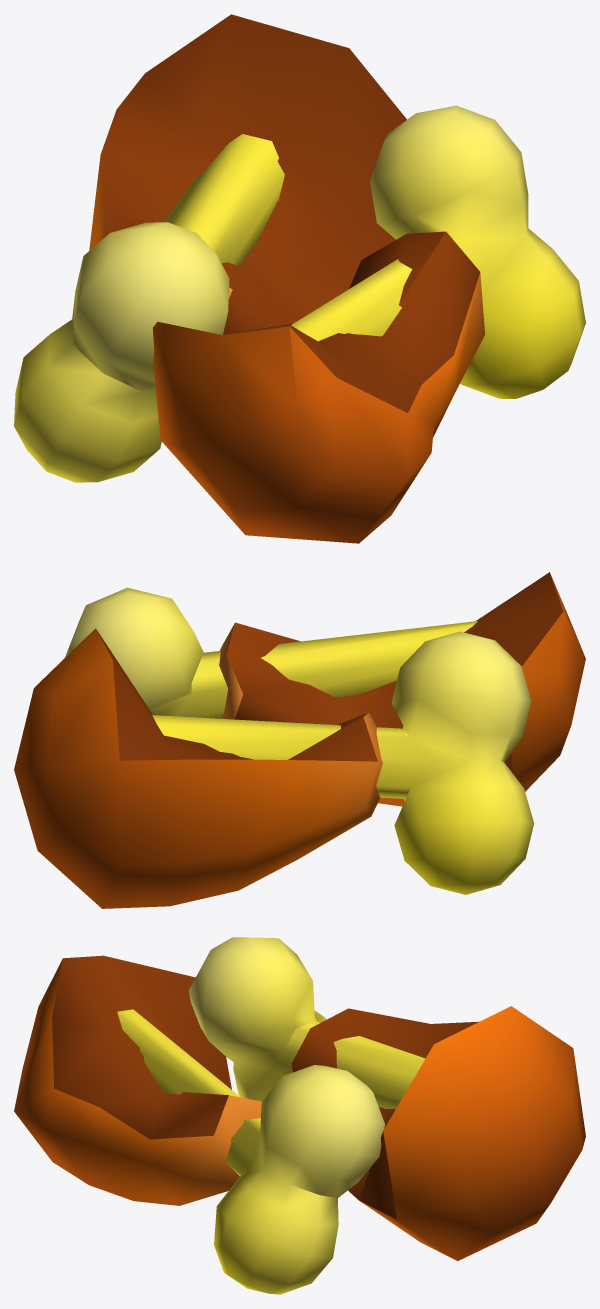
File: Leftover_Food_02.fbx
3 renders of one model, top to bottom at view 1: azimuth 30°, elevation 25°; view 2: azimuth 150°, elevation 25°; view 3: azimuth 270°, elevation 25°, orthographic. The views are drawn at different scales.
Visible parts, largest first — view 1: Leftover_Food_02; view 2: Leftover_Food_02; view 3: Leftover_Food_02.
Boxes of the visible parts, <box> form: Leftover_Food_02: <box>14,14,585,543</box>; Leftover_Food_02: <box>14,572,585,908</box>; Leftover_Food_02: <box>14,937,585,1294</box>.
Bounding box in the file's own units: 35.86 × 19.03 × 41.98.
